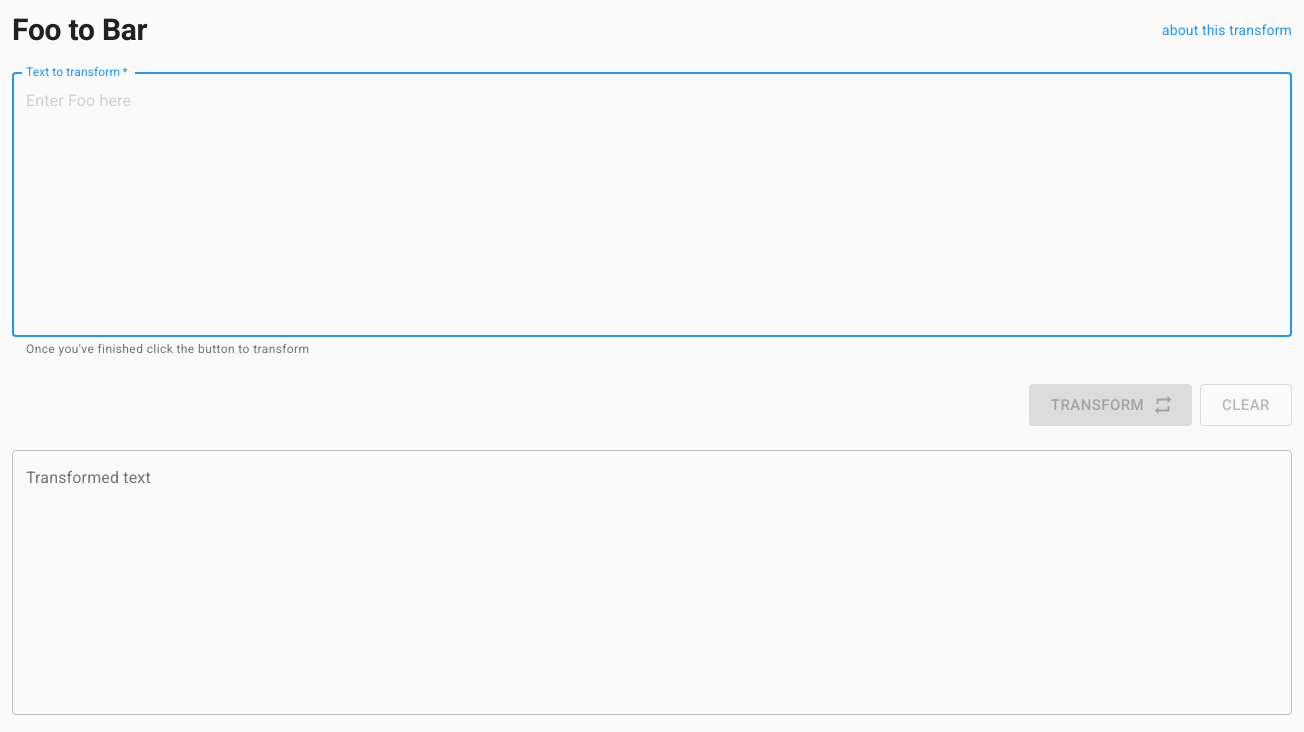
it: Transform › after the user has entered text in the input box › when the transform will fail › when the transform button is clicked › after the transform fails with boom › when the clear button is clicked › renders the transform button disabled
Step 1. Type "stuff" into the text box labelled "Text to transform *" → (652, 204), box [26,90,1278,318]
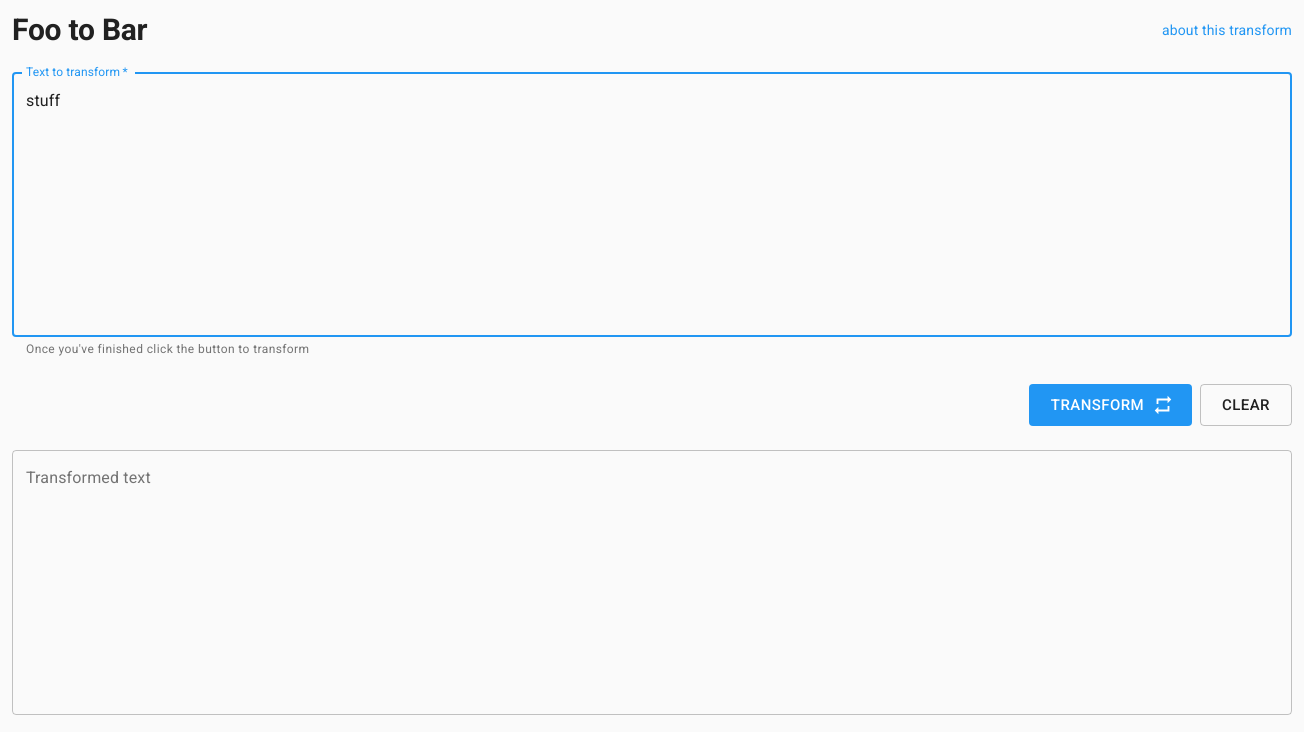
Step 2. Click the button "Transform" → (1110, 405), box [1029,384,1192,426]
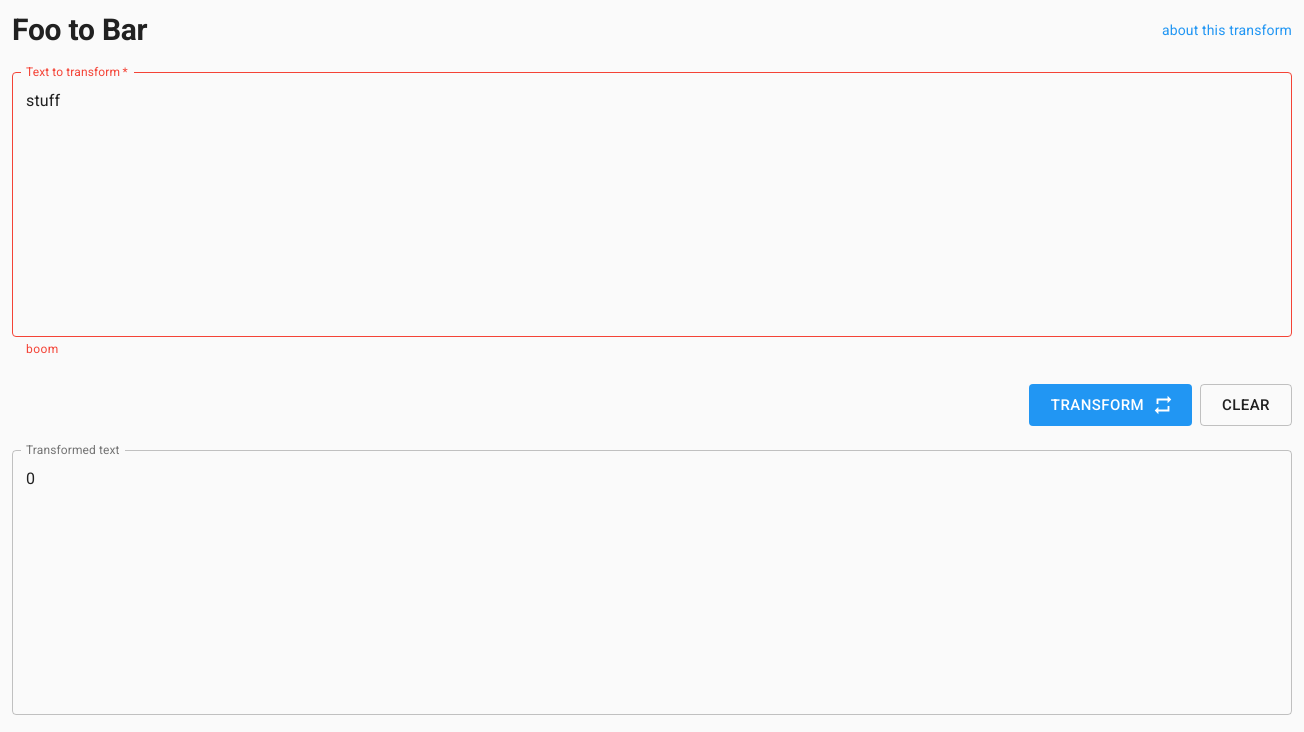
Step 3. Click the button "Clear" → (1246, 405), box [1200,384,1292,426]
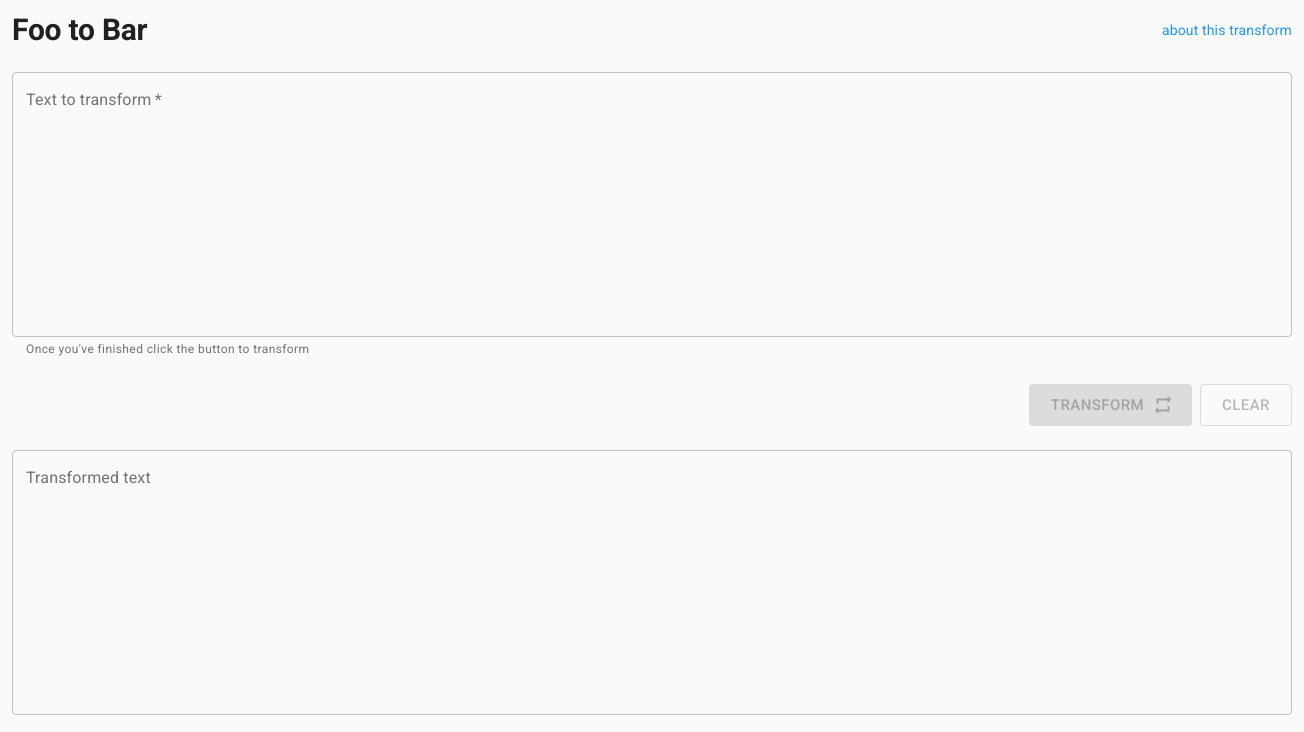
Check: the button "Transform" is disabled, box [1029,384,1192,426]
